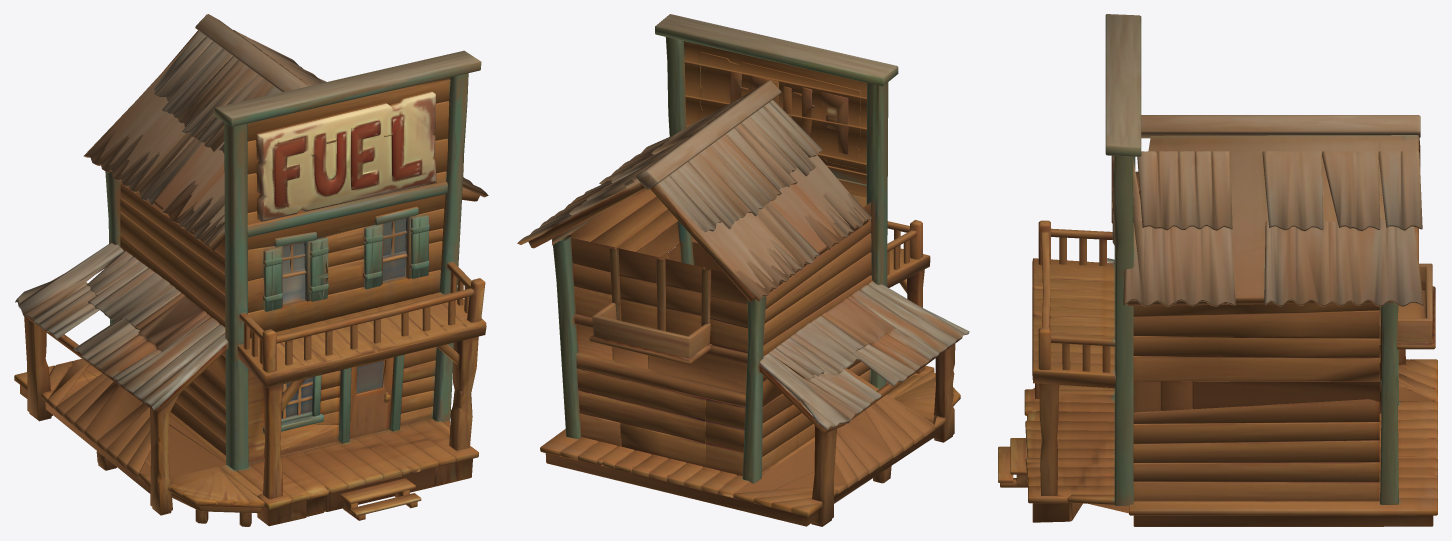
The model's file is wl_fuel_store.glb.
3 renders of one model, left to right at view 1: azimuth 30°, elevation 25°; view 2: azimuth 150°, elevation 25°; view 3: azimuth 270°, elevation 25°, orthographic. The views are drawn at different scales.
Parts seen in each view (by area): view 1: wl_fuel_store; view 2: wl_fuel_store; view 3: wl_fuel_store.
Part boxes in pixels (x1,y1,x2,y2): wl_fuel_store: (14, 14, 488, 526); wl_fuel_store: (517, 14, 969, 526); wl_fuel_store: (998, 14, 1437, 526).
Bounding box in the file's own units: 0.9312 × 0.9995 × 0.9771.
Materials: 1 (1 with a texture image).
